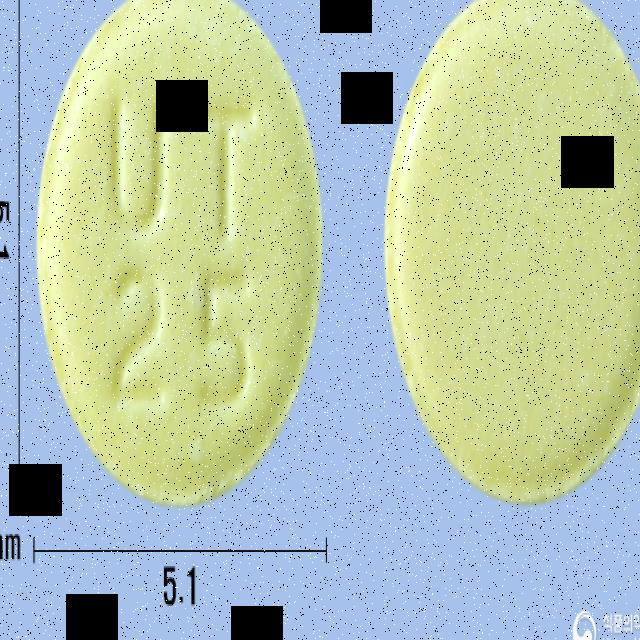Azaprine -25mg: (31, 0, 328, 512)
